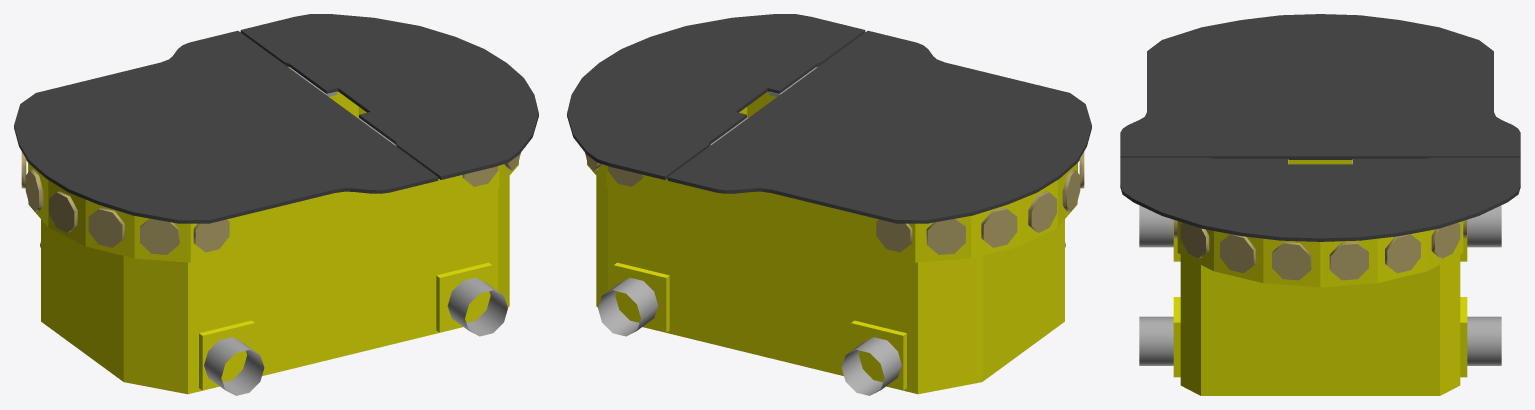
Rendered from chassis.dae.
3 renders of one model, left to right at view 1: azimuth 30°, elevation 25°; view 2: azimuth 150°, elevation 25°; view 3: azimuth 270°, elevation 25°, orthographic.
Parts seen in each view (by area): view 1: Cube_001, Plane_001, Cylinder_003, Plane_007, Plane_002, Plane_006, Plane_005, Cylinder_002, Cylinder; view 2: Cube_001, Plane_001, Cylinder_002, Plane_012, Plane_015, Plane_013, Plane_014, Cylinder_003, Cylinder_001; view 3: Cube_001, Plane_001, Cylinder, Cylinder_001, Plane_007, Plane_012, Plane_002, Plane_015, Plane_006, Plane_013.
Boxes of the visible parts, x1,y1,x2,y2 form: Cube_001: (14,14,538,223); Plane_001: (28,67,518,394); Cylinder_003: (49,191,229,254); Plane_007: (447,277,507,336); Plane_002: (204,337,264,395); Plane_006: (436,262,492,332); Plane_005: (199,320,254,390); Cylinder_002: (21,151,43,211); Cylinder: (462,153,520,186); Cube_001: (567,14,1091,223); Plane_001: (587,67,1077,394); Cylinder_002: (876,191,1056,254); Plane_012: (598,277,658,336); Plane_015: (841,337,901,395); Plane_013: (613,262,669,332); Plane_014: (851,320,906,390); Cylinder_003: (1062,151,1084,211); Cylinder_001: (585,153,643,186); Cube_001: (1120,14,1520,241); Plane_001: (1177,160,1463,395); Cylinder: (1174,220,1311,280); Cylinder_001: (1329,220,1466,280); Plane_007: (1139,316,1173,365); Plane_012: (1467,316,1501,365); Plane_002: (1139,205,1173,247); Plane_015: (1467,205,1501,247); Plane_006: (1173,297,1180,377); Plane_013: (1460,297,1467,377).
Bounding box in the file's own units: 0.5106 × 0.3831 × 0.1956.
